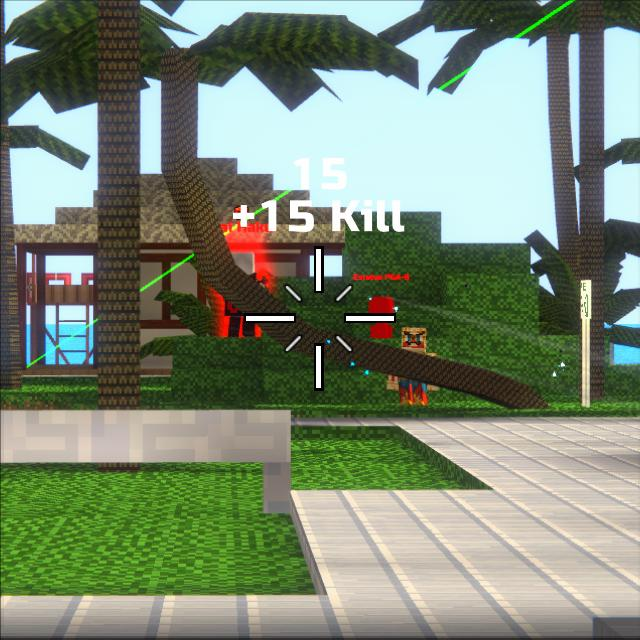Enemy: (218, 250, 265, 337)
